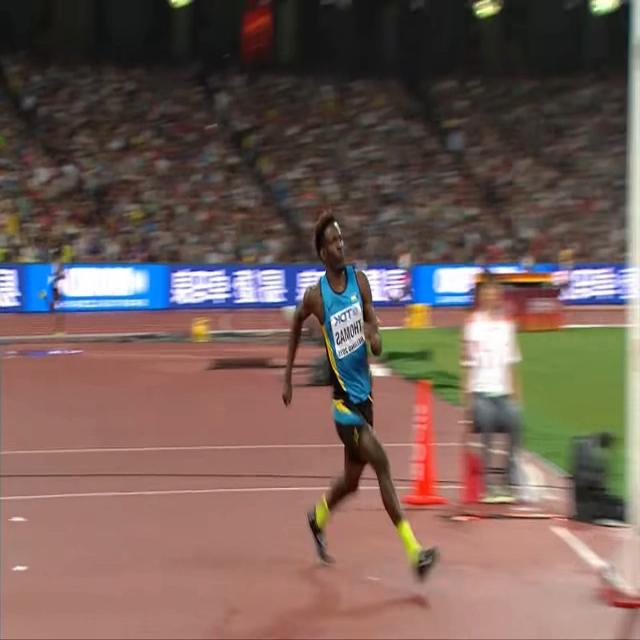run: (280, 208, 442, 587)
